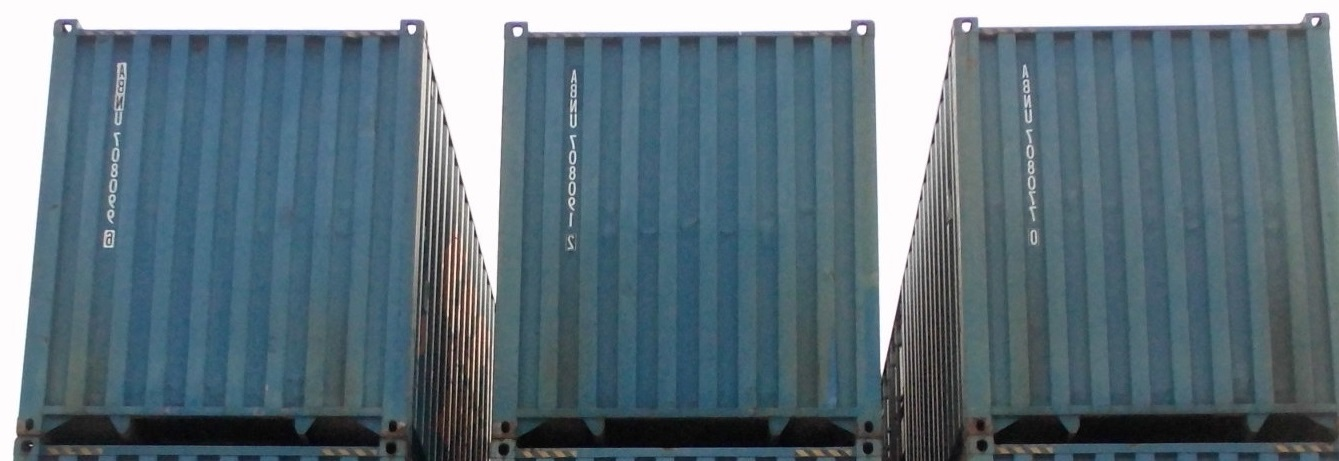container_no_door: (12, 22, 430, 430), (483, 16, 889, 436), (955, 3, 1339, 436)
